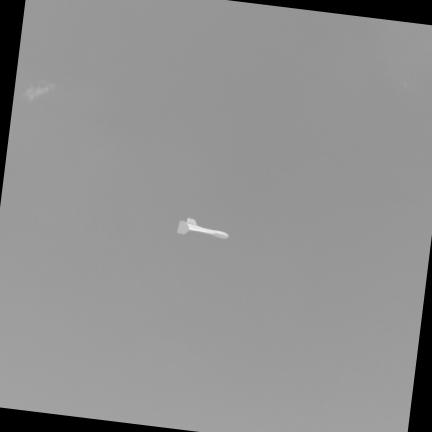Shahed: (176, 217, 228, 239)
